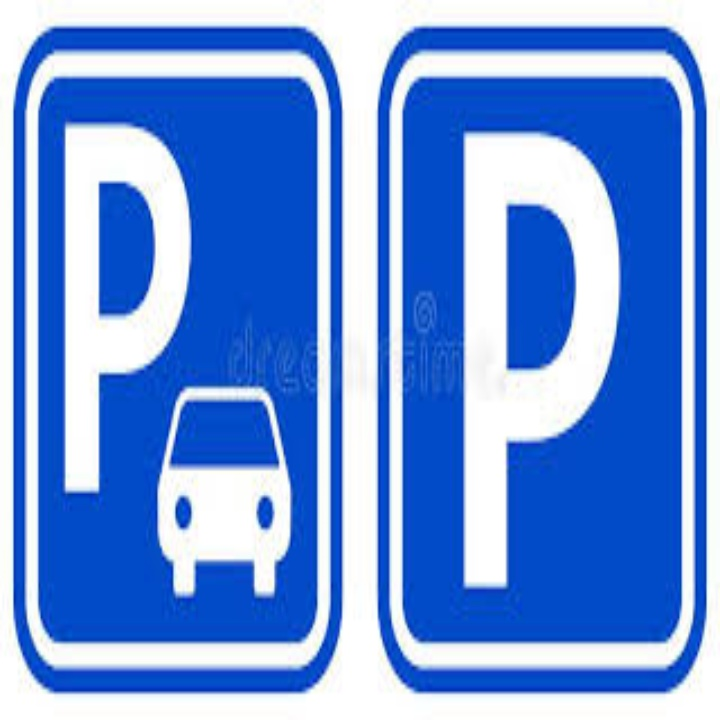parking: (452, 120, 629, 603), (59, 114, 196, 499)
